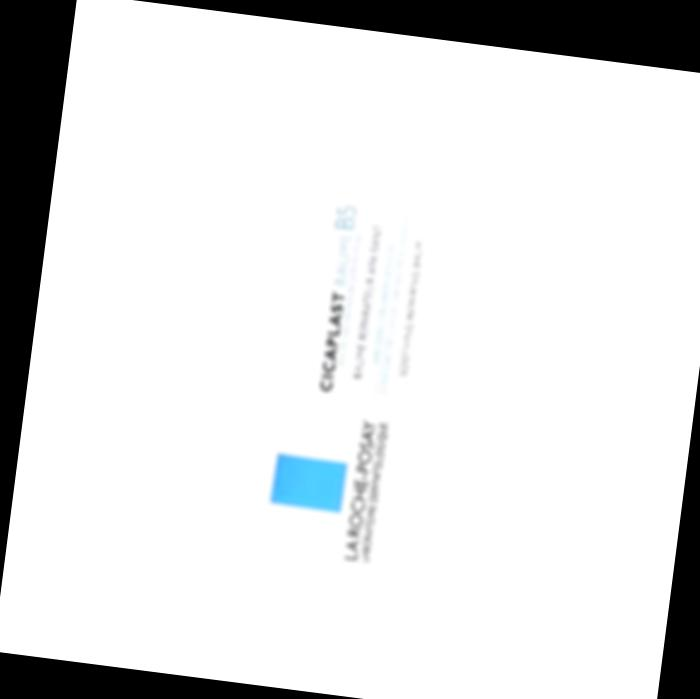cosmetic: (203, 63, 516, 648)
